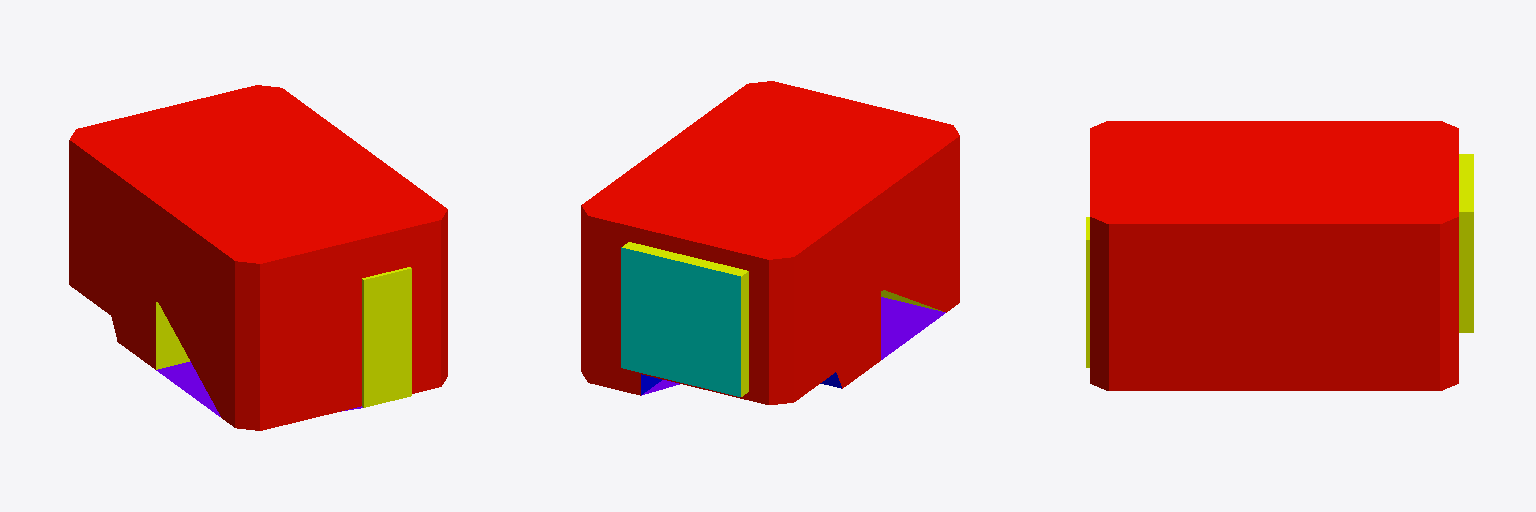
The model's file is bedroom.obj.
The picture shows the model from 3 angles: view 1: azimuth 30°, elevation 25°; view 2: azimuth 150°, elevation 25°; view 3: azimuth 270°, elevation 25°; orthographic projection.
Parts seen in each view (by area): view 1: Mesh1 Model; view 2: Mesh1 Model; view 3: Mesh1 Model.
Boxes of the visible parts, x1=… form: Mesh1 Model: x1=69, y1=85, x2=447, y2=430; Mesh1 Model: x1=581, y1=81, x2=959, y2=404; Mesh1 Model: x1=1086, y1=121, x2=1473, y2=390.
Bounding box in the file's own units: 4 × 3 × 6.32.